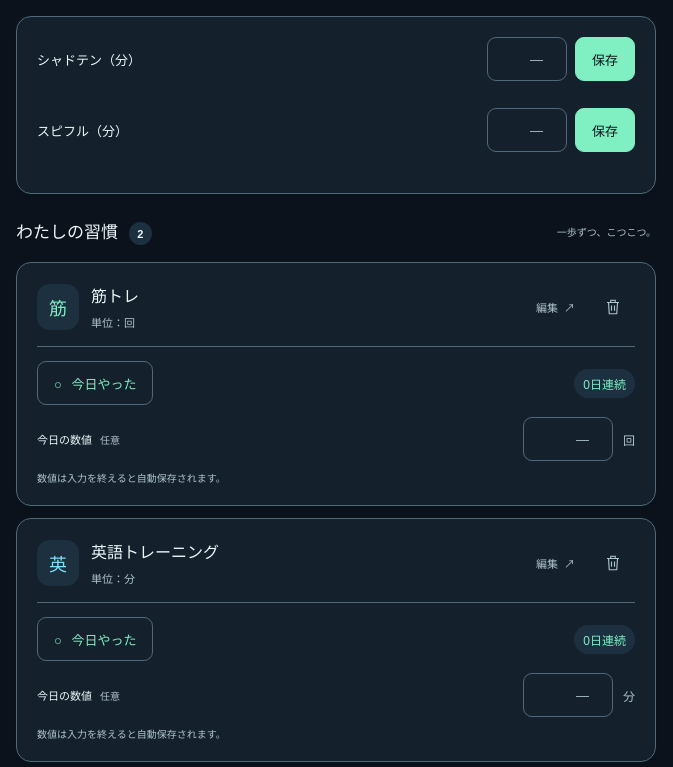
it: daily check-in › reports failed writes and deletes without changing the saved state
(page scrolled)
Expected: the heading "筋トレ" is shown, left=91, top=288, right=139, bottom=306
Click the button with test id "checkin-toggle" below "単位：回" at (95,384), box left=37, top=362, right=154, bottom=406
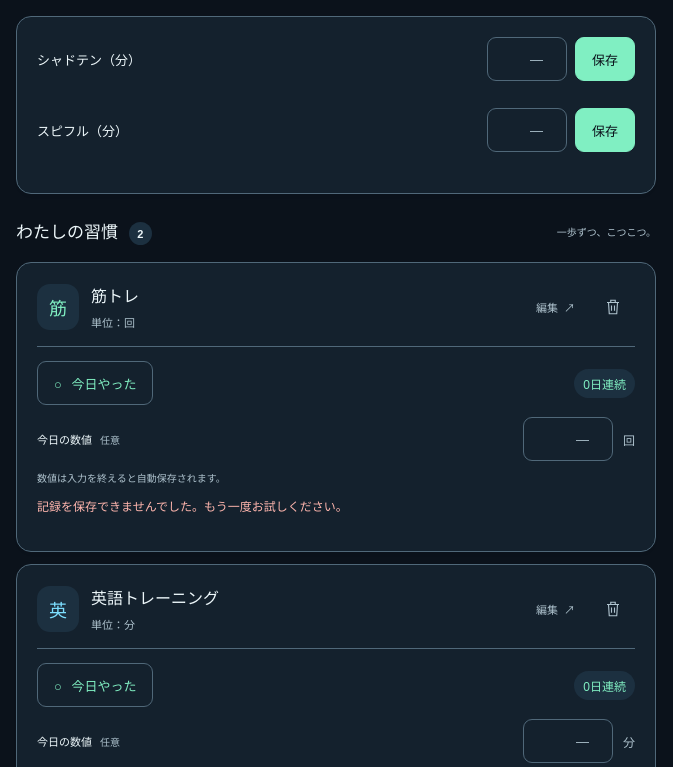
Result: the message "記録を保存できませんでした。もう一度お試しください。" is shown at left=37, top=500, right=348, bottom=514
Click the button with test id "checkin-toggle" below "単位：回" at (95,384), box left=37, top=362, right=154, bottom=406
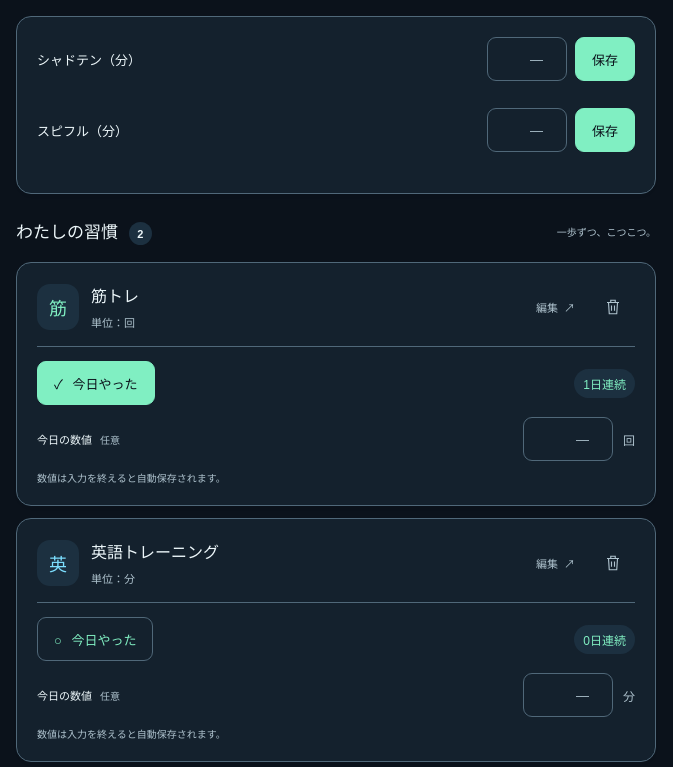
Click the button with test id "checkin-toggle" showing "✓ 今日やった" at (96,384), box left=37, top=362, right=154, bottom=406
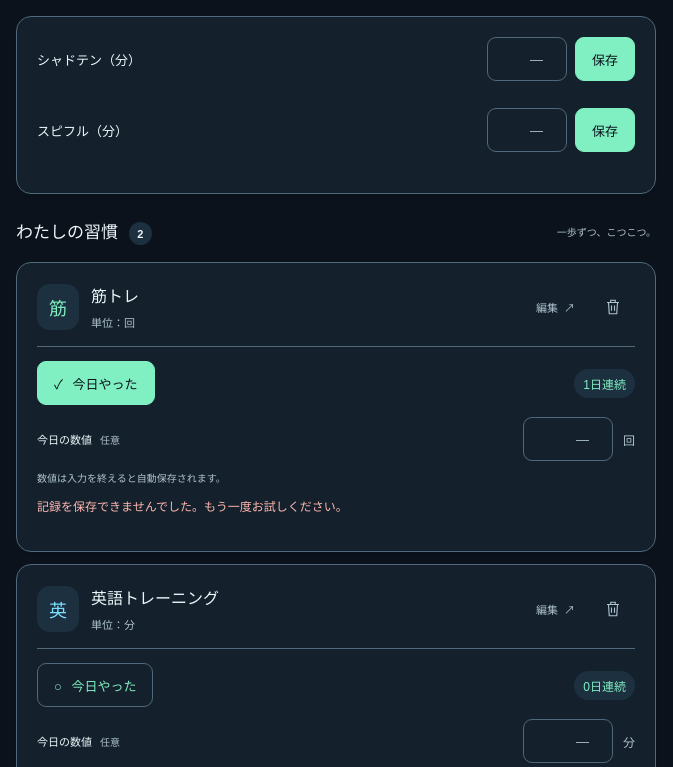
Result: the message "記録を保存できませんでした。もう一度お試しください。" is shown at left=37, top=500, right=348, bottom=514
